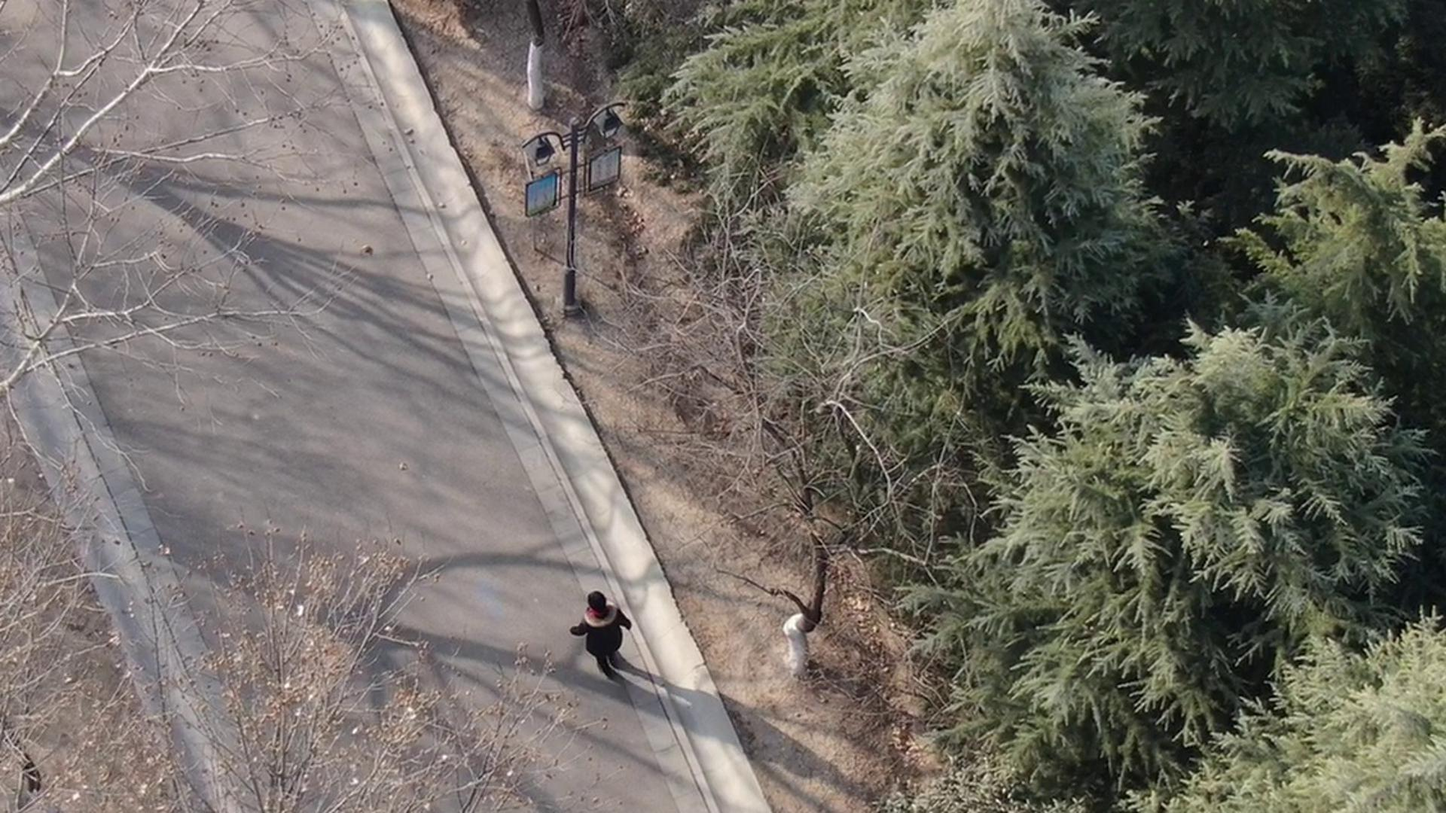human: (569, 577, 626, 674)
